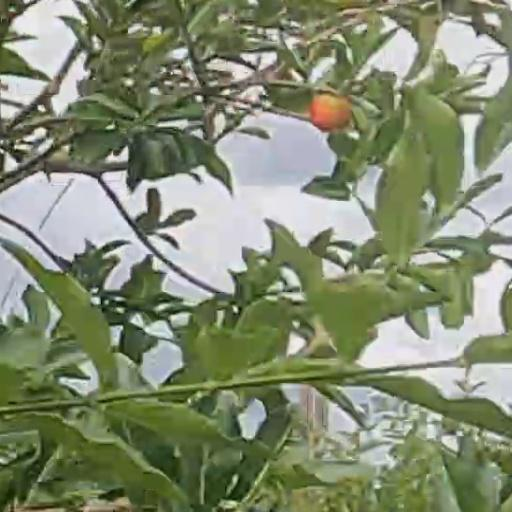acerola_vermelha: (309, 96, 352, 131)
